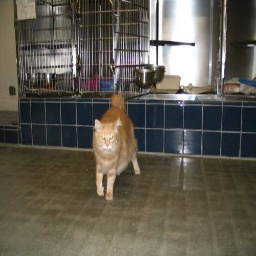cat: (89, 91, 142, 201)
